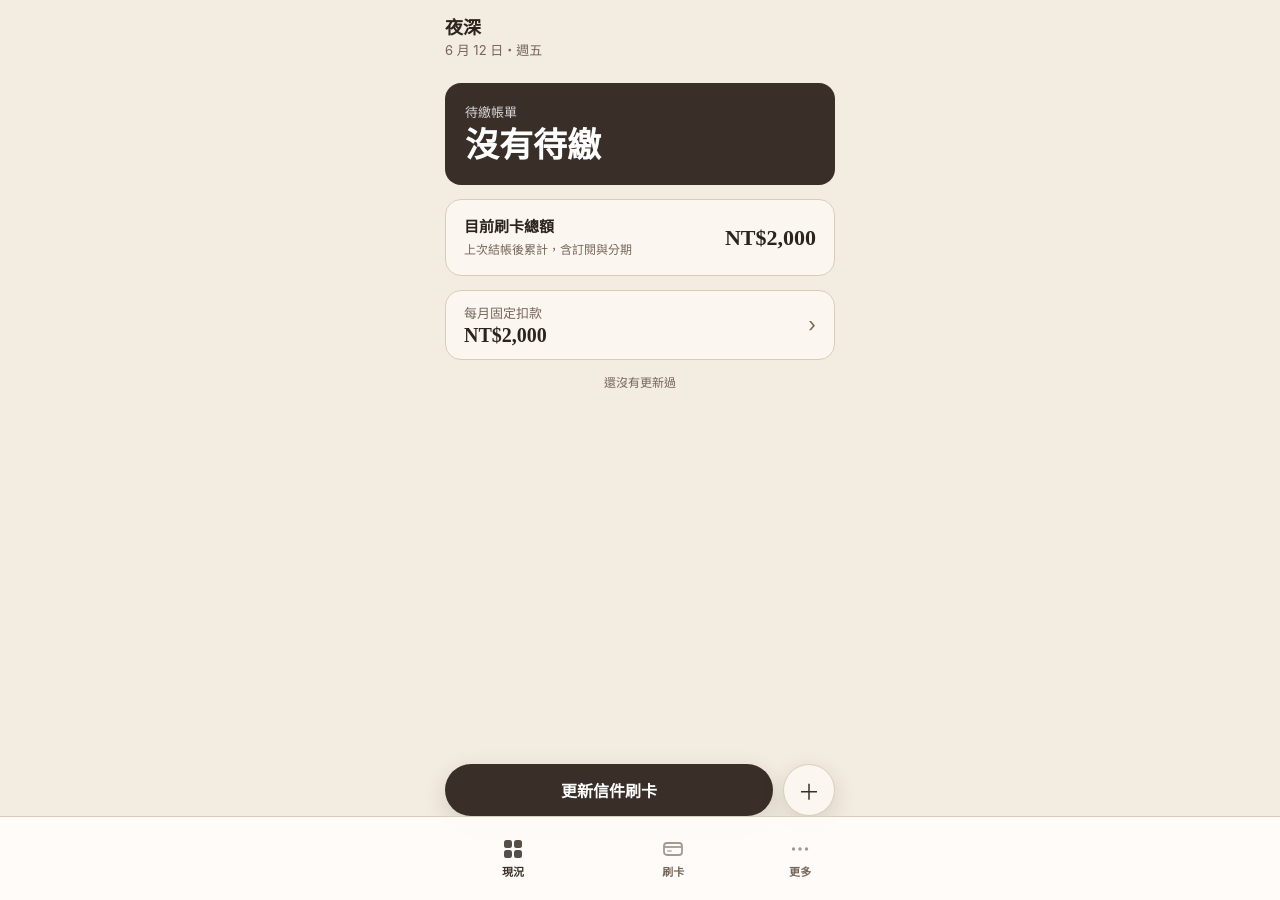
Scenario: 分期計畫：已繳期數 › 編輯既有分期可改已繳期數
Click the button "更多": coordinates (800, 858) 754,826 -> 847,890
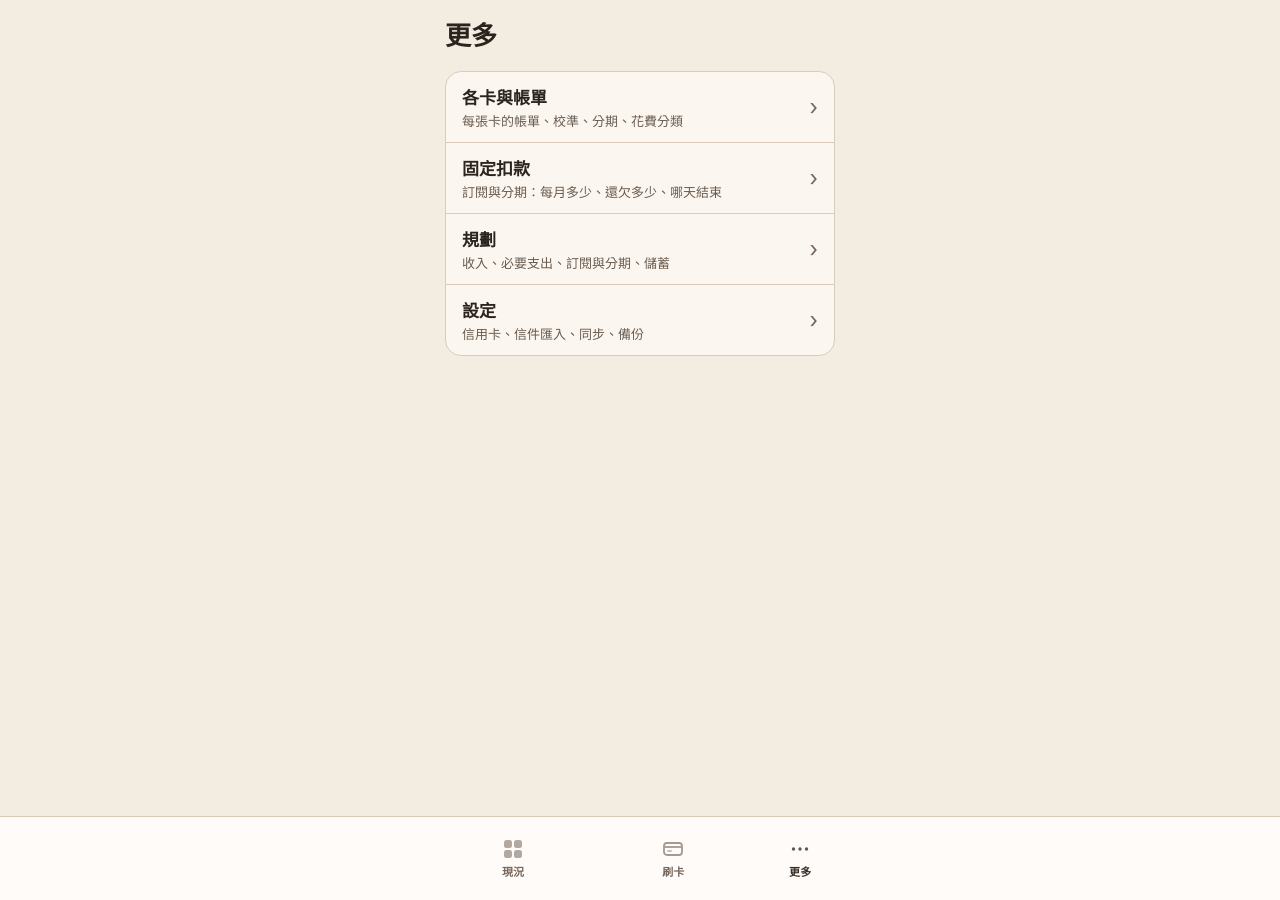
Click the button "規劃 收入、必要支出、訂閱與分期、儲蓄 ›": coordinates (479, 240) 446,214 -> 834,284
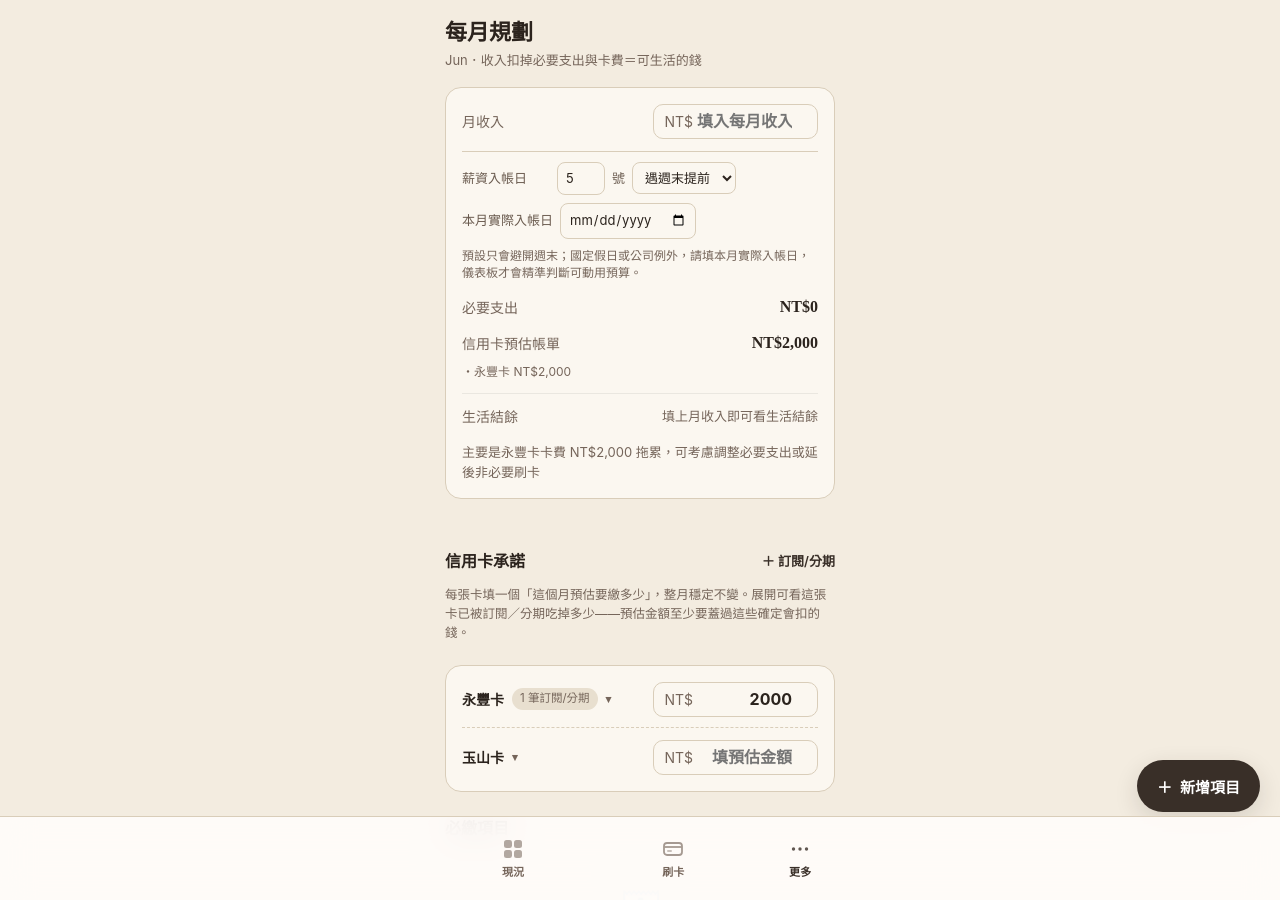
Click the button with class "checklist-estimate-toggle" showing "永豐卡 1 筆訂閱/分期 ▾": coordinates (537, 699) 462,688 -> 611,710
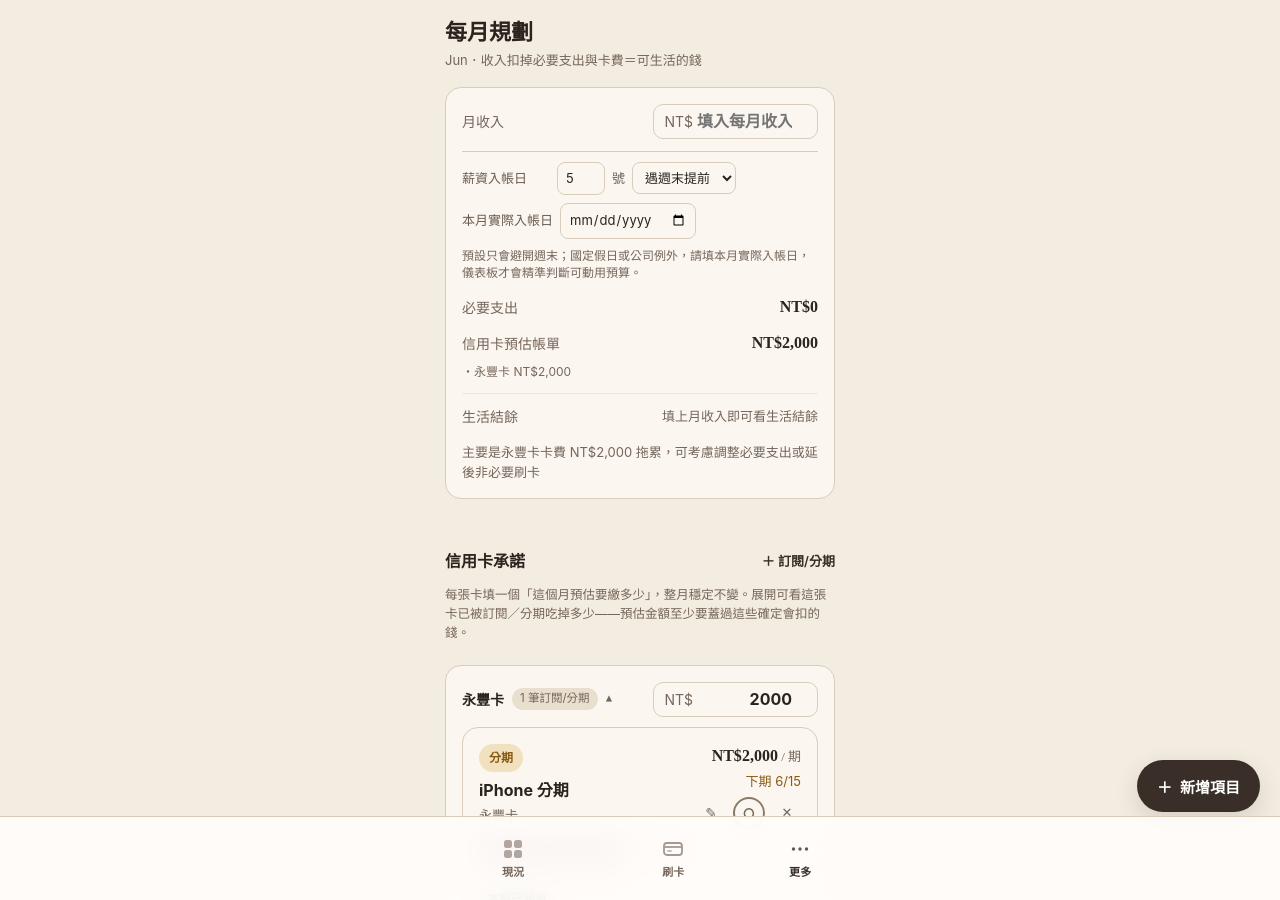
expect the text "已付 8/12 期，尚餘 4 期" is shown: met, box 479,862 -> 619,878
Click the button named "編輯": coordinates (711, 812) 697,798 -> 725,826
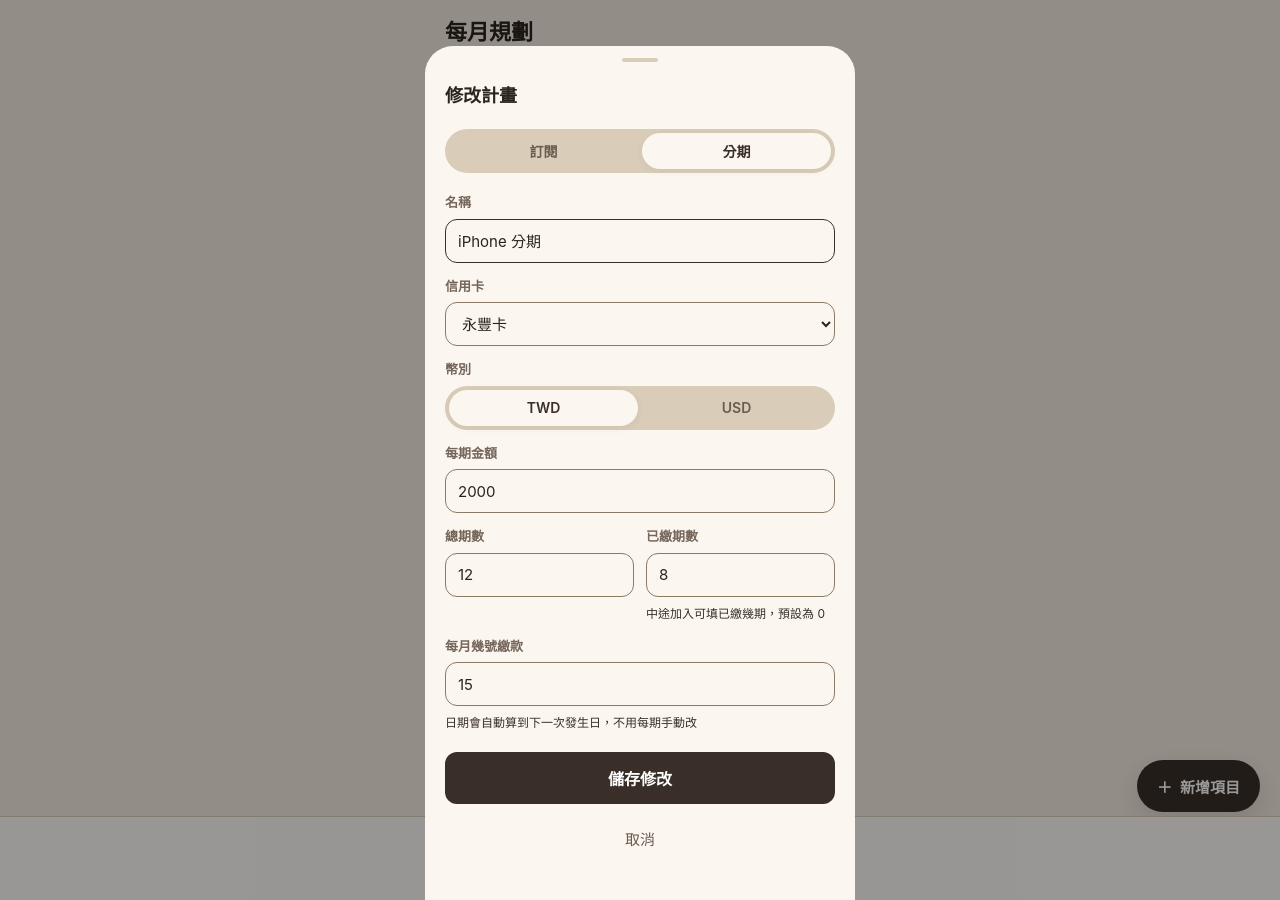
expect the number field with class "apf-input" below "已繳期數" holds "8": met
Replace the text in the number field with class "apf-input" below "已繳期數" with "10": coordinates (740, 574) 646,552 -> 835,596
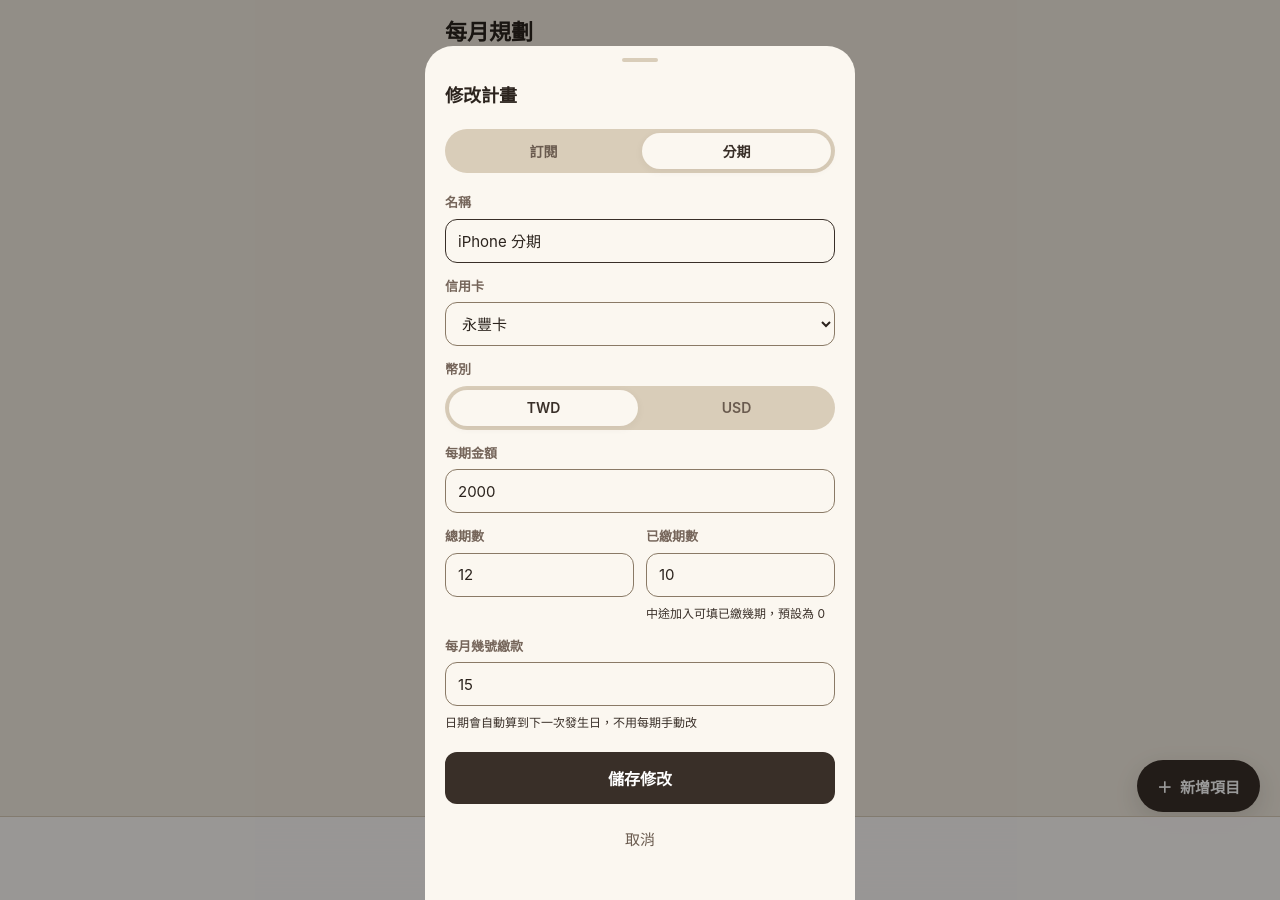
Click the button "儲存修改": coordinates (640, 778) 445,752 -> 835,804
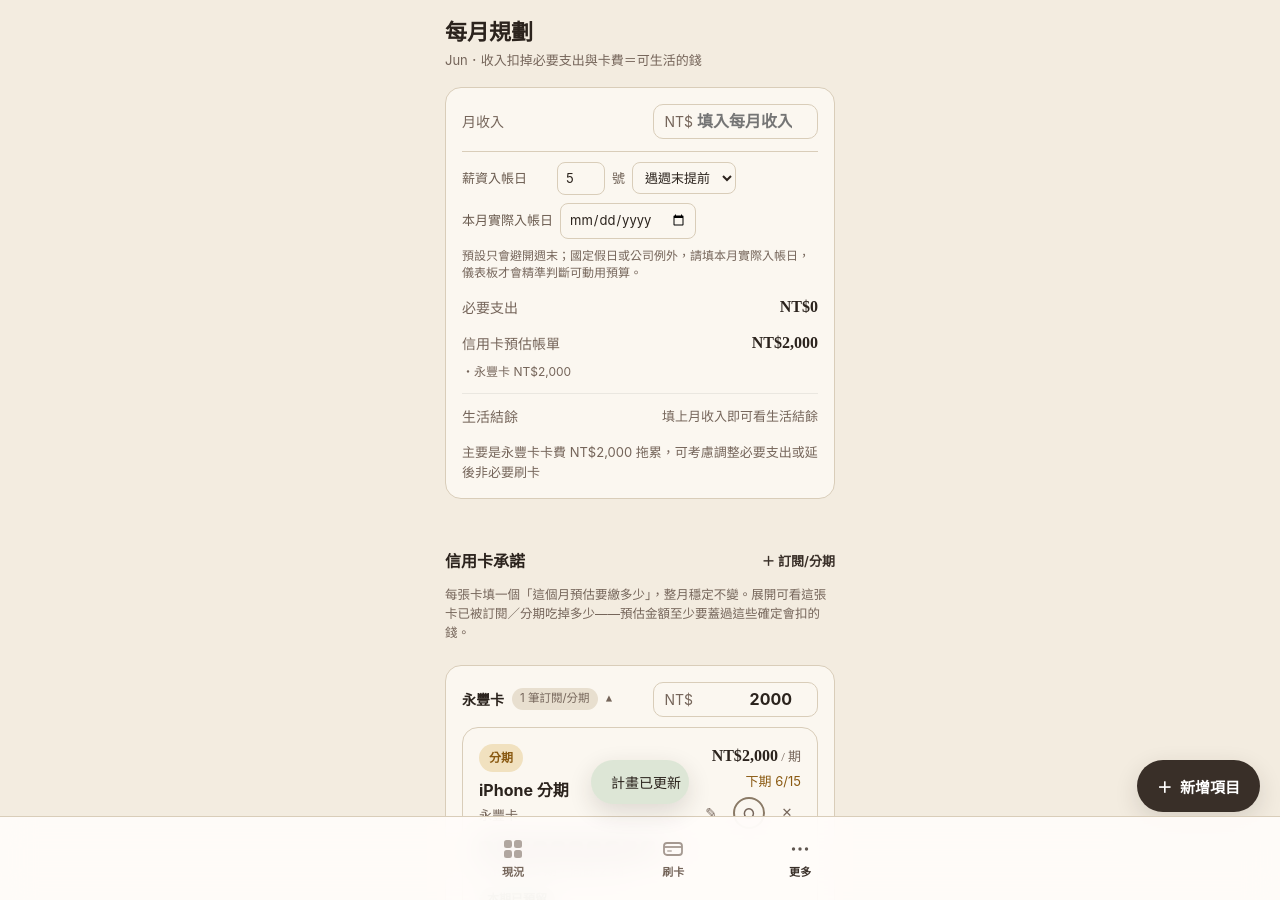
expect the text "已付 10/12 期，尚餘 2 期" is shown: met, box 479,862 -> 624,878
